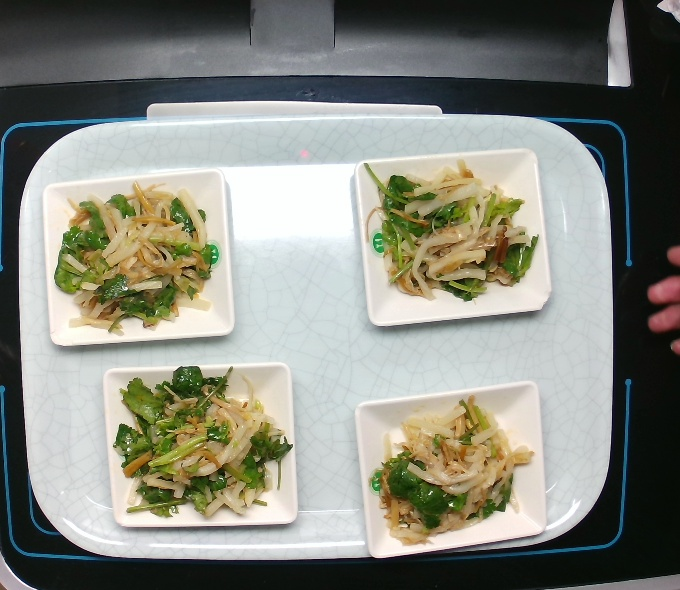wcq-LiangBanJinZhenGu: (114, 366, 294, 518), (50, 178, 218, 335), (368, 159, 548, 301), (373, 400, 527, 548)
